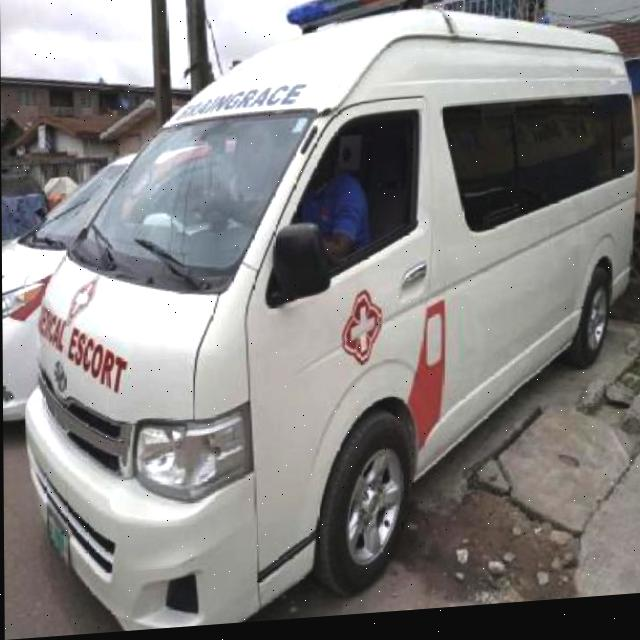emergency: (18, 0, 640, 639)
